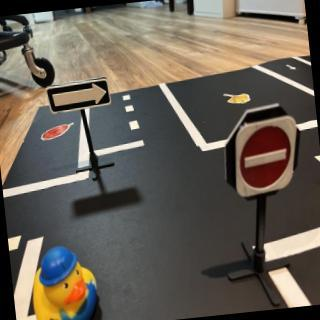duck_specialty: (27, 240, 104, 320)
sign_noentry: (232, 116, 308, 203)
sign_oneway_right: (45, 78, 114, 117)
